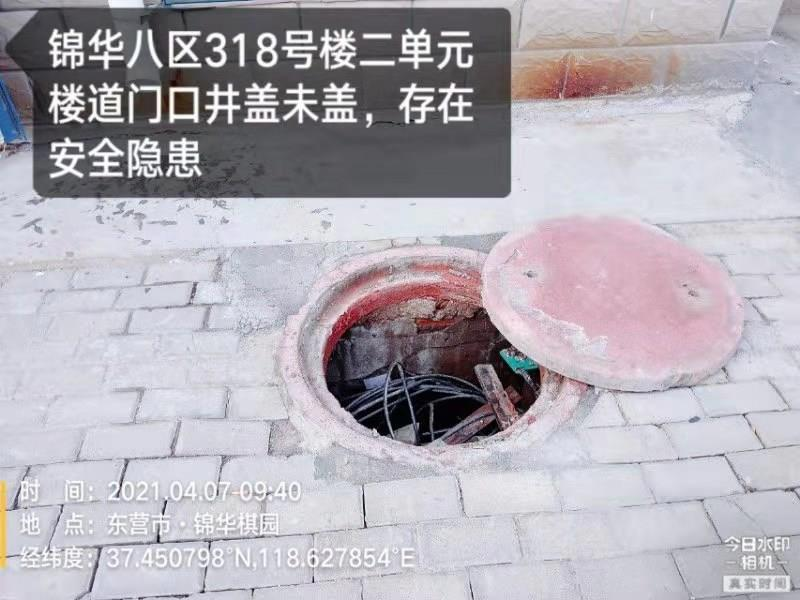wellcover: (247, 208, 758, 469)
